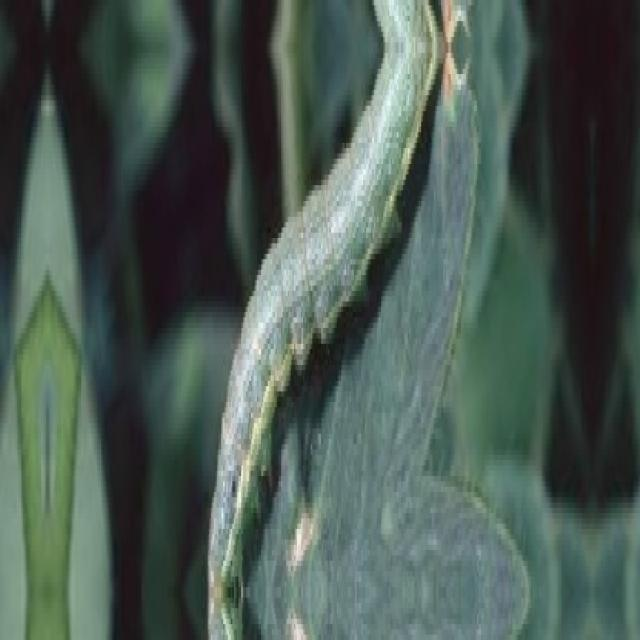Armyworm: (177, 1, 438, 640)
